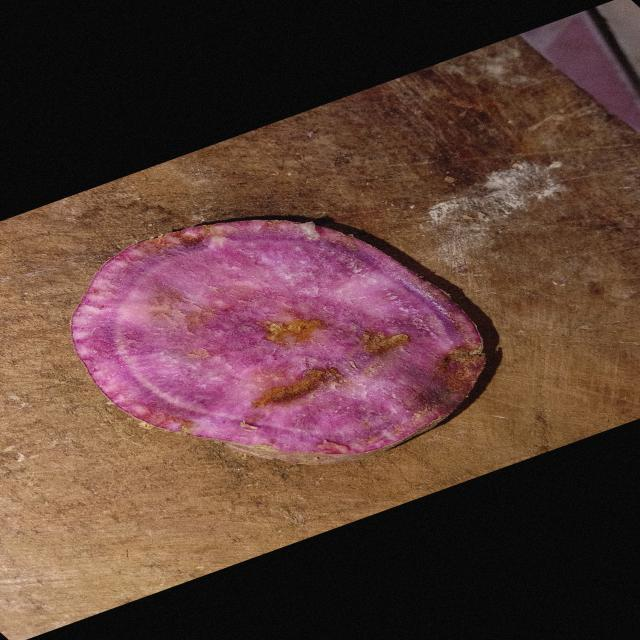Sick Sweet Potato_Tuber Rot: (71, 220, 484, 464)
